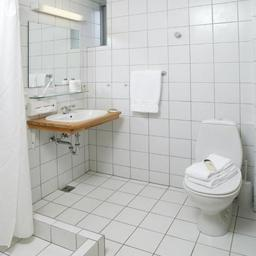Ducha: (1, 2, 105, 254)
Lavamanos: (41, 101, 121, 142)
Sanitario: (185, 120, 246, 236)
